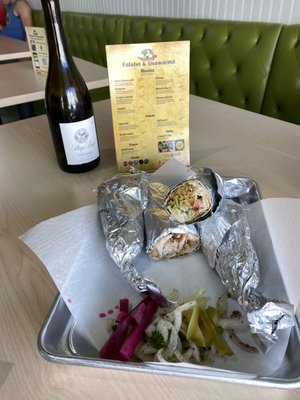burger: (42, 0, 101, 174)
curry: (0, 12, 299, 400)
pasta: (54, 10, 296, 120)
